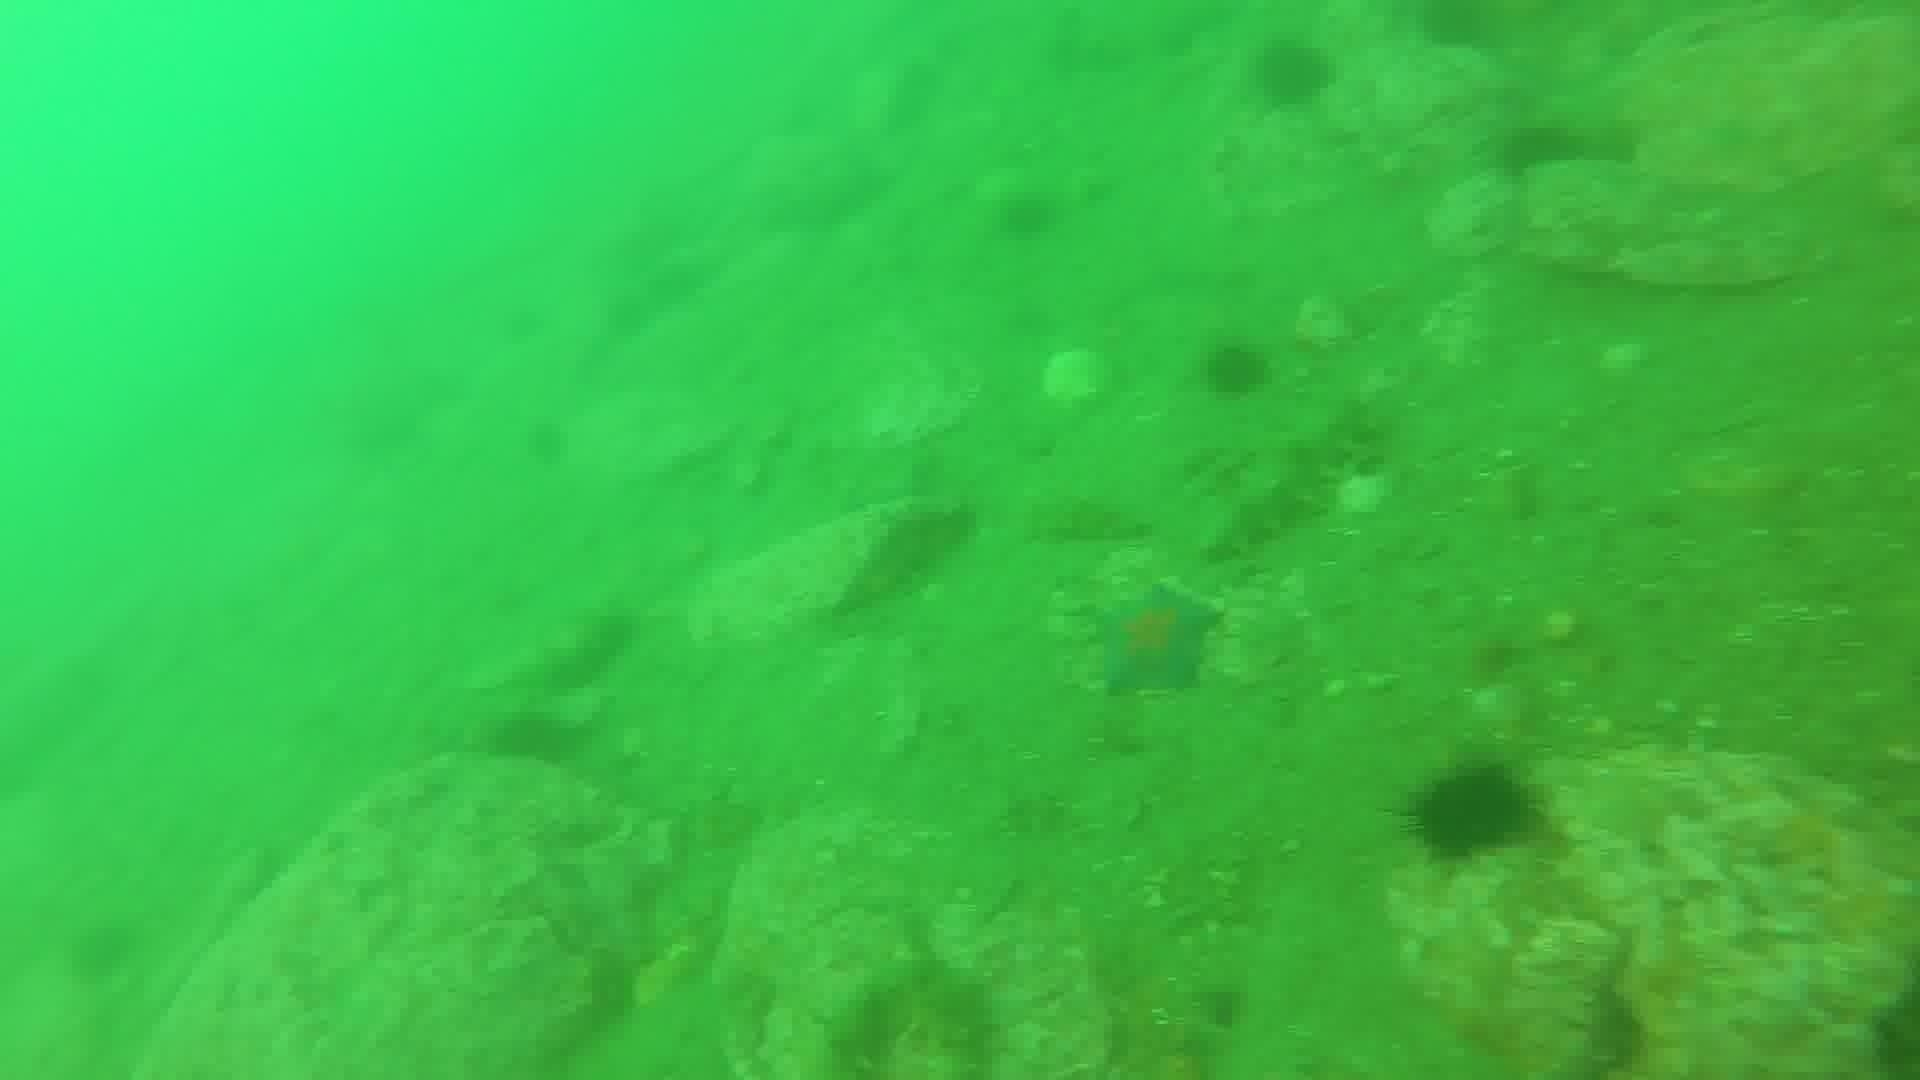echinus: (1400, 760, 1542, 866), (1247, 36, 1338, 112), (485, 705, 582, 773), (1491, 117, 1582, 183), (1411, 1, 1503, 58), (1197, 338, 1274, 404), (992, 185, 1063, 245), (520, 414, 574, 471)
holothurian: (1197, 396, 1385, 562), (902, 953, 1004, 1076), (819, 960, 907, 1075)
scallop: (1036, 345, 1114, 414)
starfish: (1085, 578, 1225, 702)
